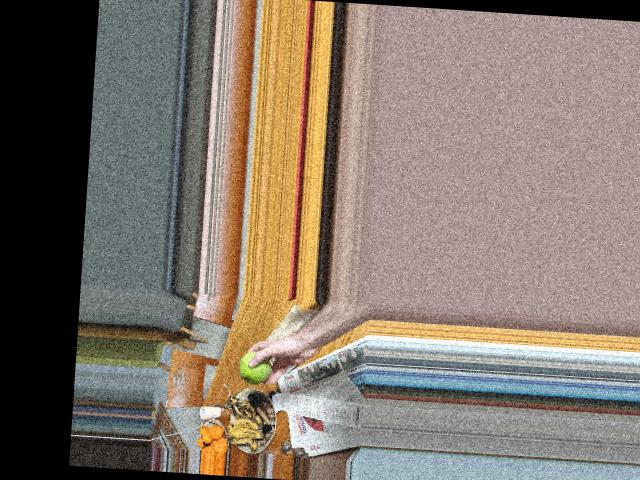apple: (236, 353, 278, 386)
